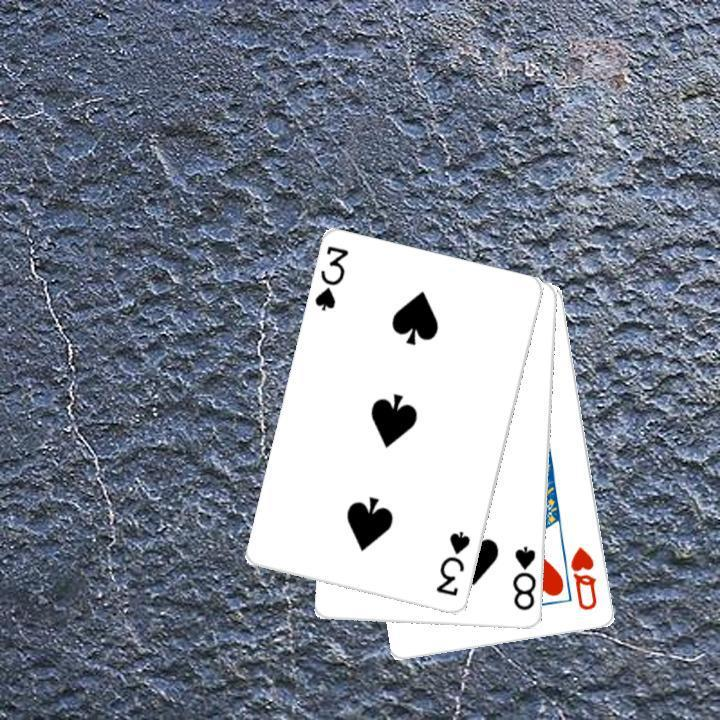3: (432, 527, 473, 599), (310, 242, 351, 314)
8: (509, 542, 538, 613)
Q: (566, 543, 600, 613)
